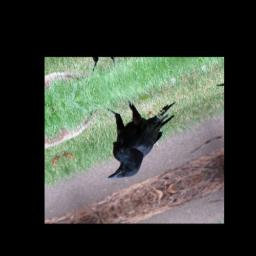Crow: (83, 82, 195, 186)
